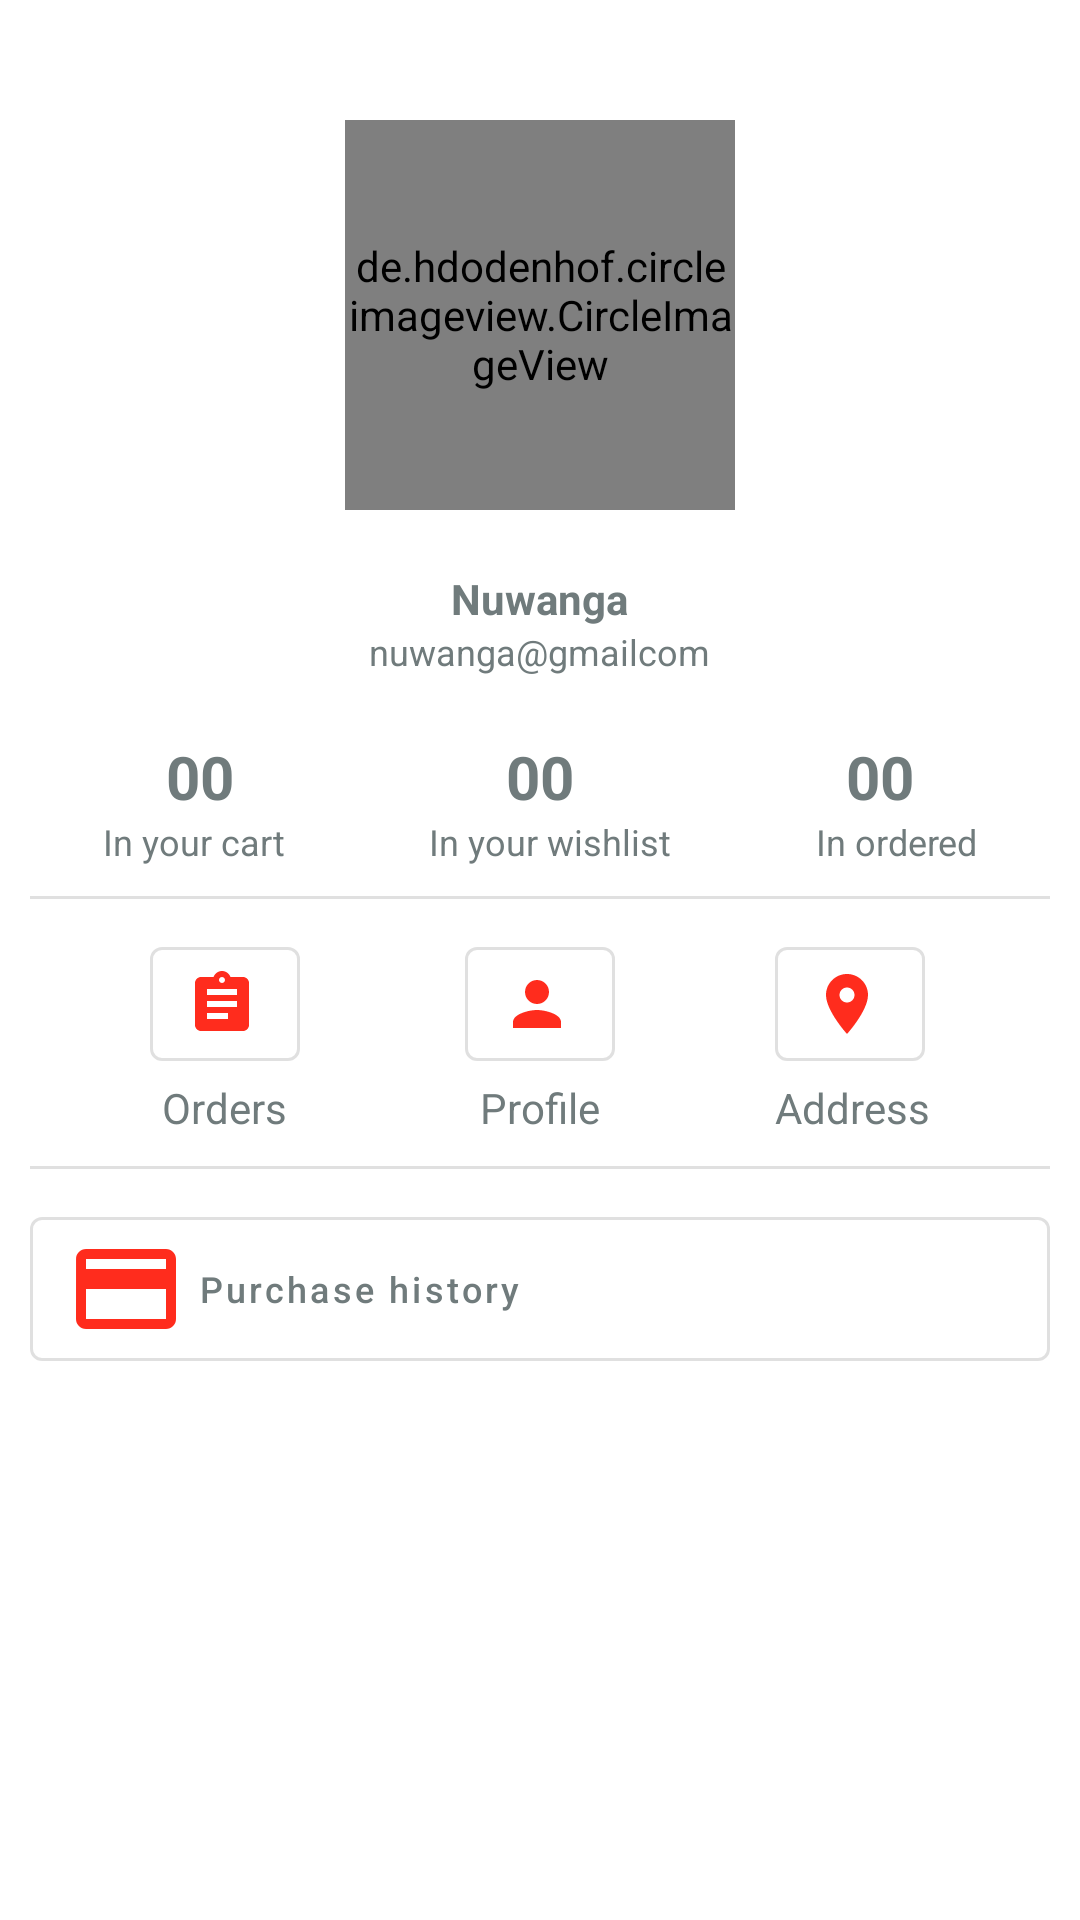

Screen size 1080×1920. Icon name, then its center in pixels as (x,y):
assignment: (225,1004)
location on: (850,1004)
person: (540,1004)
